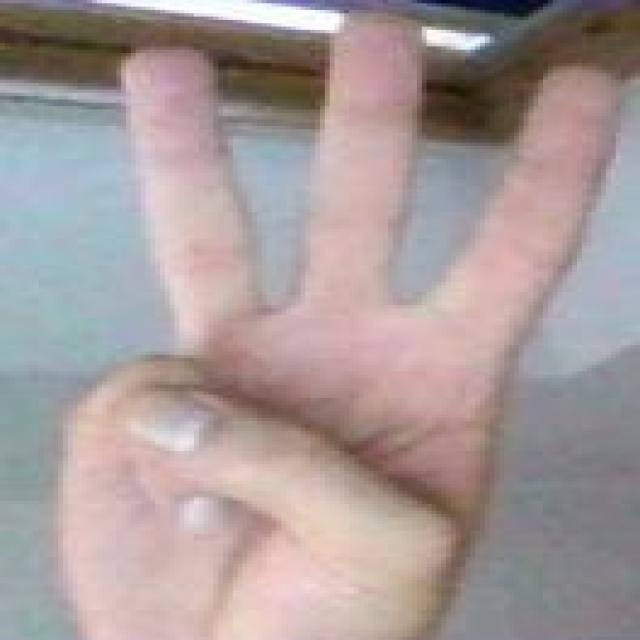W: (18, 2, 628, 637)
